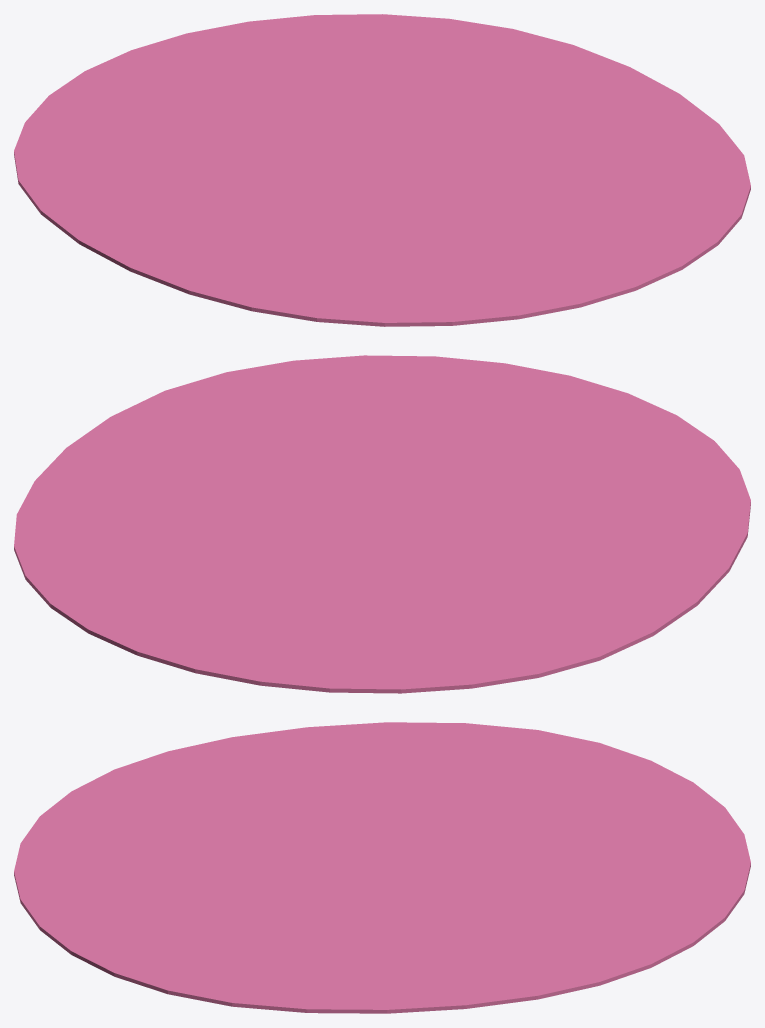
The model's file is ham.FBX.
3 renders of one model, top to bottom at view 1: azimuth 30°, elevation 25°; view 2: azimuth 150°, elevation 25°; view 3: azimuth 270°, elevation 25°, orthographic. The views are drawn at different scales.
Parts seen in each view (by area): view 1: Ham; view 2: Ham; view 3: Ham.
Part boxes in pixels (<box>): Ham: <box>14,14,750,326</box>; Ham: <box>14,355,750,693</box>; Ham: <box>14,722,750,1013</box>.
Size of the model in its own units: 0.00126 by 7.7e-06 by 0.00136.
